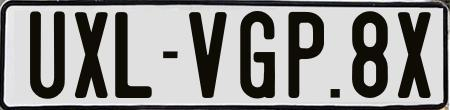8: (351, 10, 391, 102)
G: (238, 11, 279, 103)
L: (114, 12, 154, 102)
P: (288, 11, 329, 97)
U: (28, 11, 63, 101)
V: (186, 11, 230, 101)
X: (74, 12, 110, 101), (397, 11, 433, 99)
